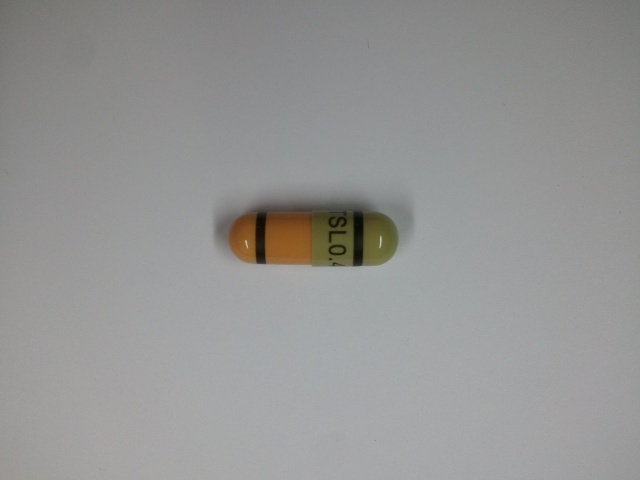capsule: (227, 208, 399, 266)
